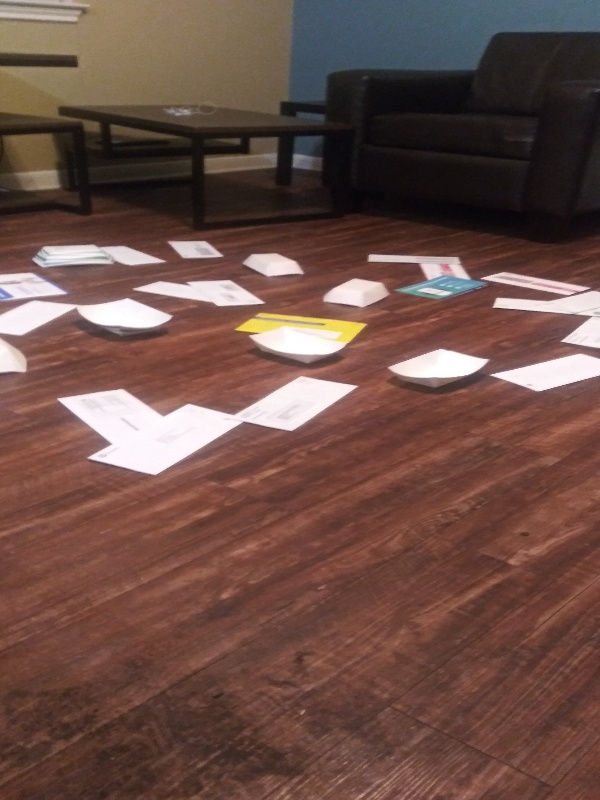plate: (385, 345, 494, 394), (72, 292, 180, 339), (247, 325, 352, 369), (24, 239, 120, 273), (318, 273, 395, 310), (238, 249, 307, 284), (1, 331, 33, 382)
